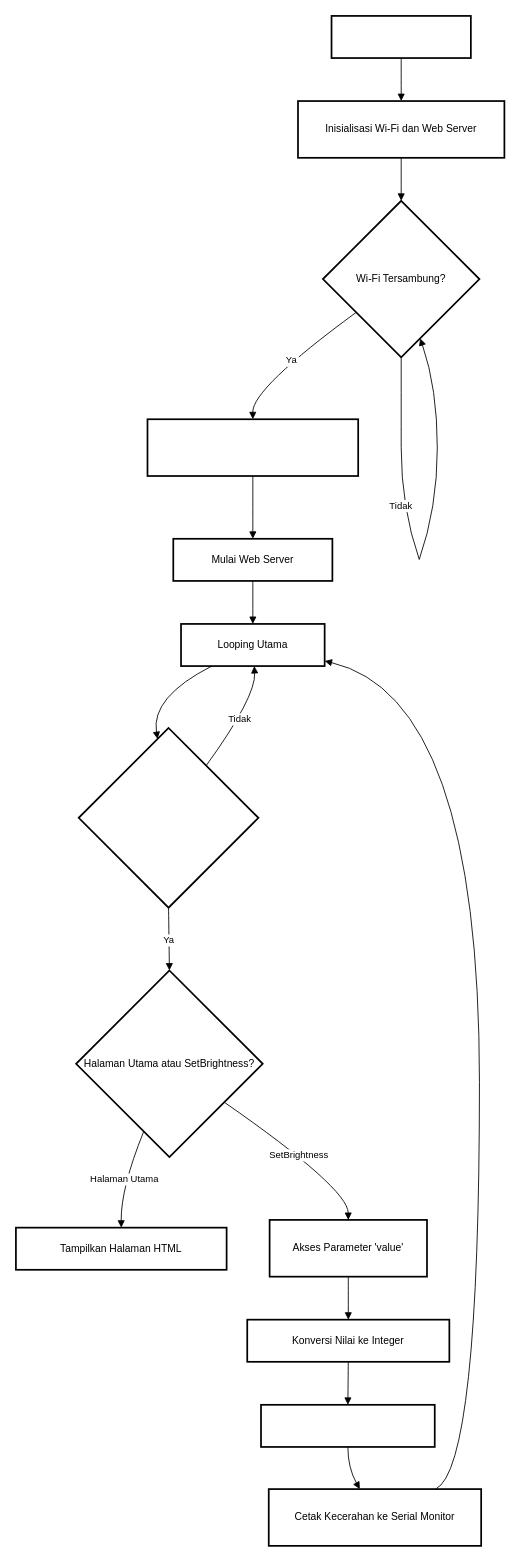
This 519x1561 diagram has some shape labels left out. Each missing label, with the centre of its shape:
Ada Permintaan Klien?: the point at 168,817
Atur Kecerahan LED: the point at 347,1425
Cetak IP Address ke Serial Monitor: the point at 252,447
Mulai Program: the point at 400,36
